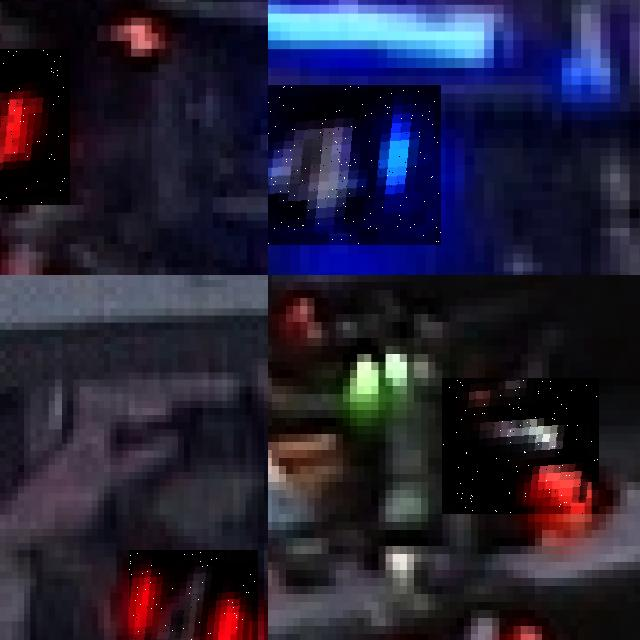B4: (268, 85, 440, 245)
R4: (442, 378, 599, 514), (129, 550, 258, 640), (0, 49, 70, 205), (392, 594, 549, 640)
